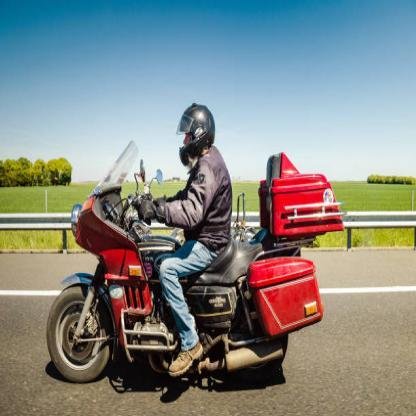Motorcycle: (47, 170, 305, 386)
